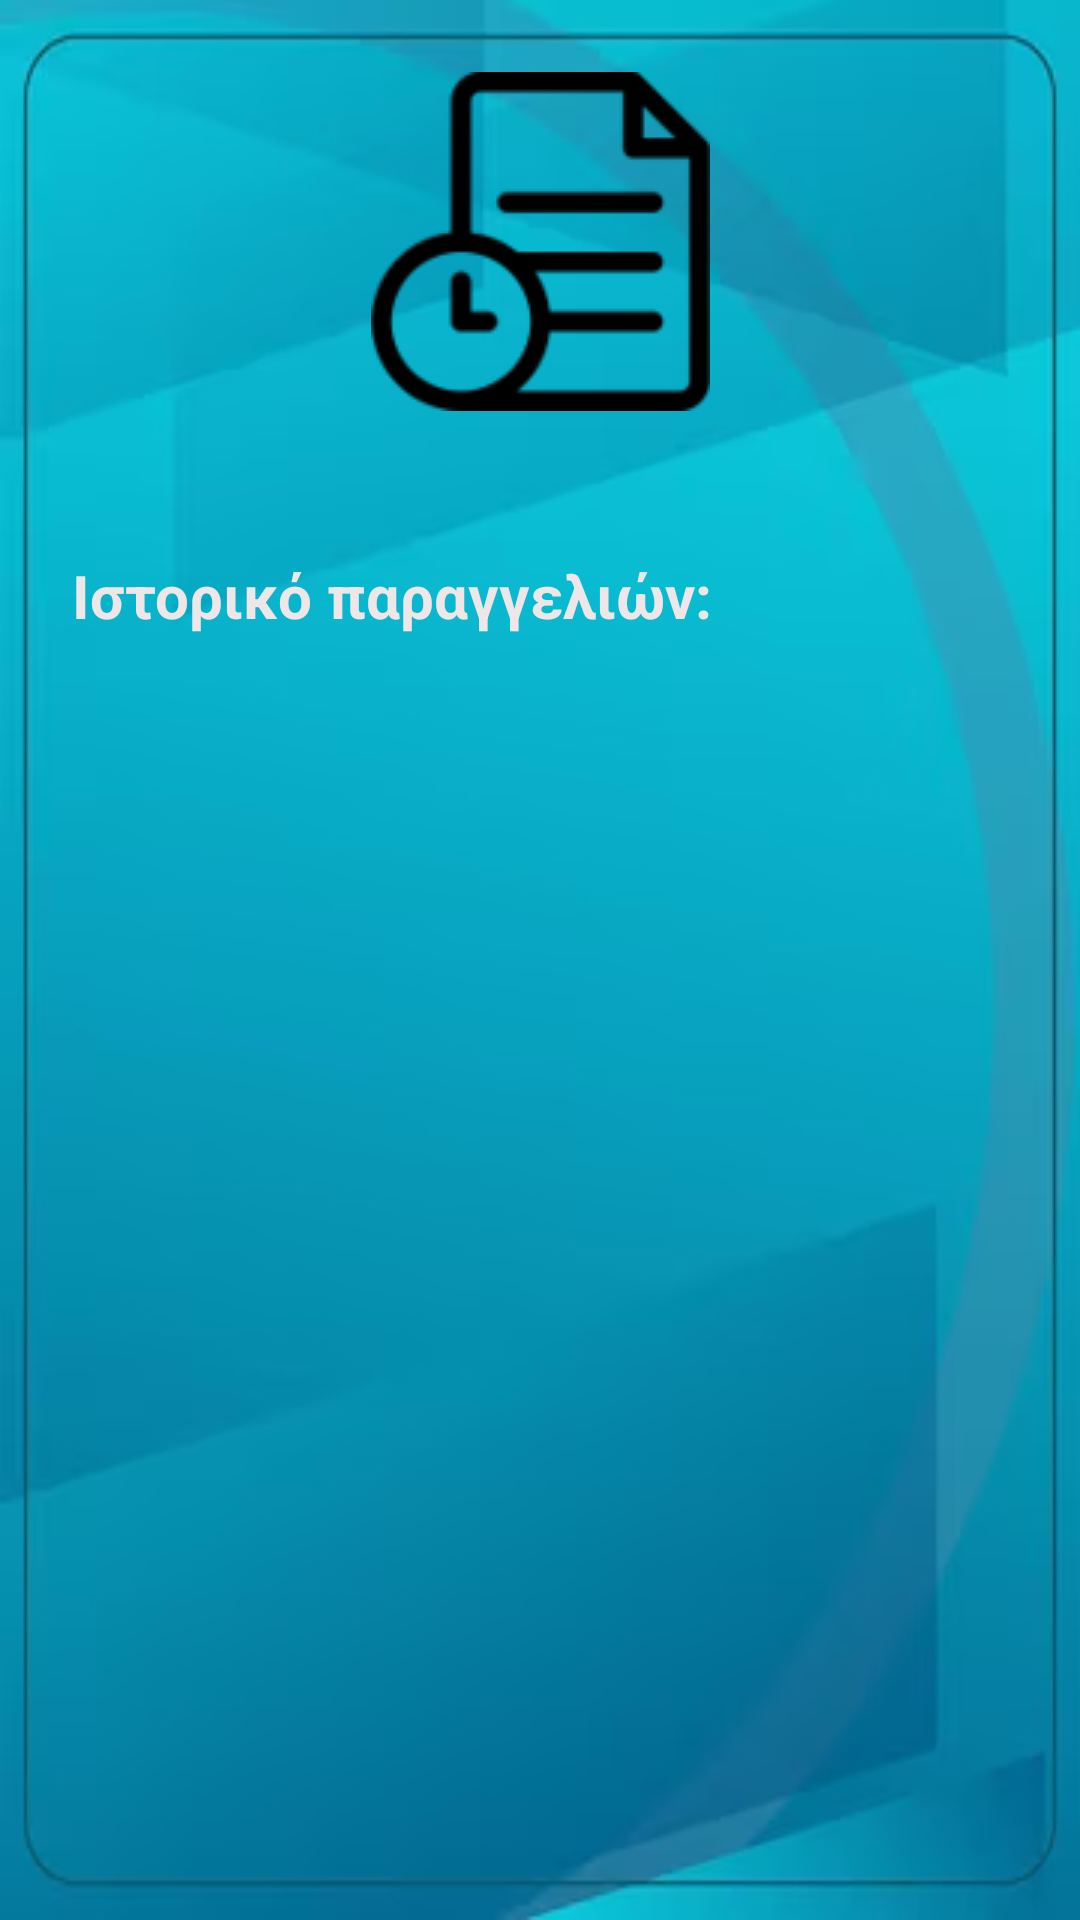

Named icons in this screenshot (1080×1920) and their centers, [x,y]:
history: [540,241]
